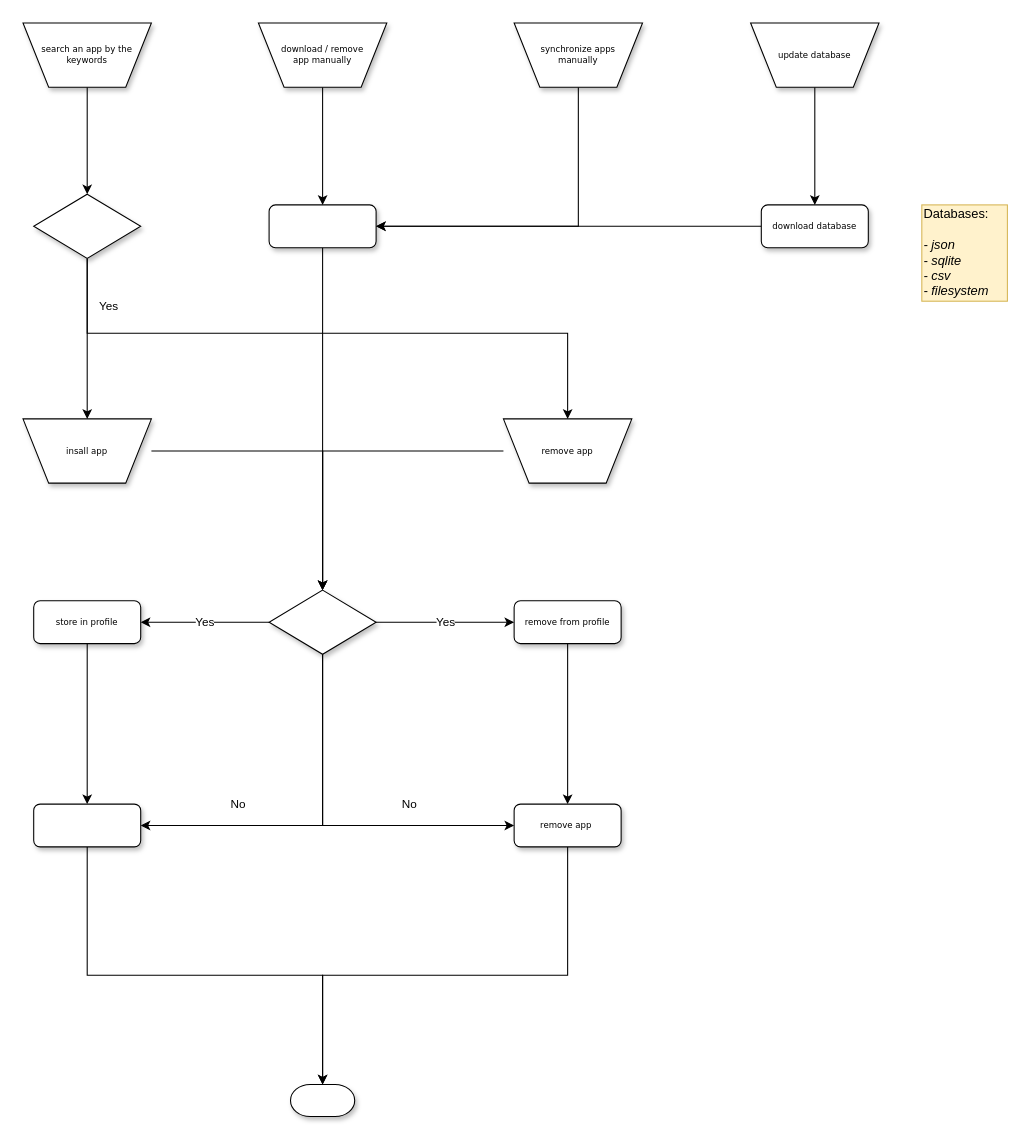
This 1026x1143 diagram has some shape labels left out. The shapes that lost their labels are listed below. From the top down, each one's centre as x and y in pixels, then its label:
At (x=87, y=227): "Found?".
At (x=323, y=227): "detect local changes".
At (x=323, y=623): "Signed in?".
At (x=87, y=826): "download app".
At (x=323, y=1101): "End".
